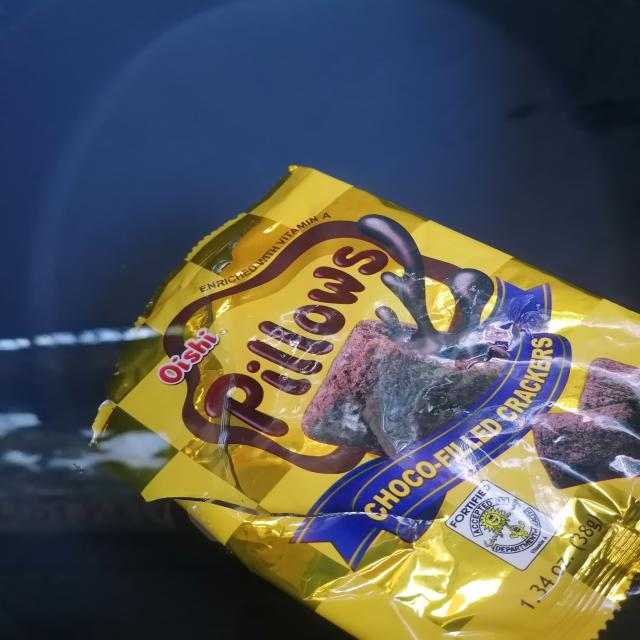Plastic Wrapper: (51, 145, 640, 640)
